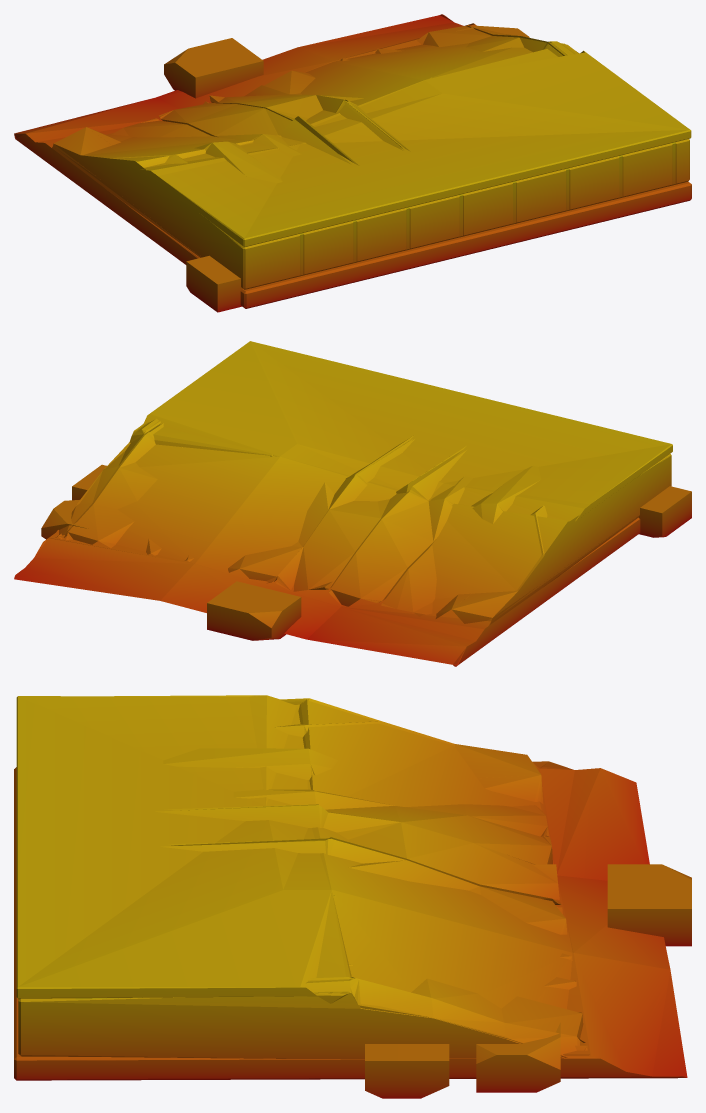
File: plinth_broken.glb
3 renders of one model, top to bottom at view 1: azimuth 30°, elevation 25°; view 2: azimuth 150°, elevation 25°; view 3: azimuth 270°, elevation 25°, orthographic. The views are drawn at different scales.
Visible parts, largest first — view 1: plinth_broken; view 2: plinth_broken; view 3: plinth_broken.
Boxes of the visible parts, <box> form: plinth_broken: <box>14,14,691,312</box>; plinth_broken: <box>14,341,691,666</box>; plinth_broken: <box>14,695,691,1098</box>.
Size of what is drawn, in the model's own units: 8.87 by 1.2 by 7.84.
